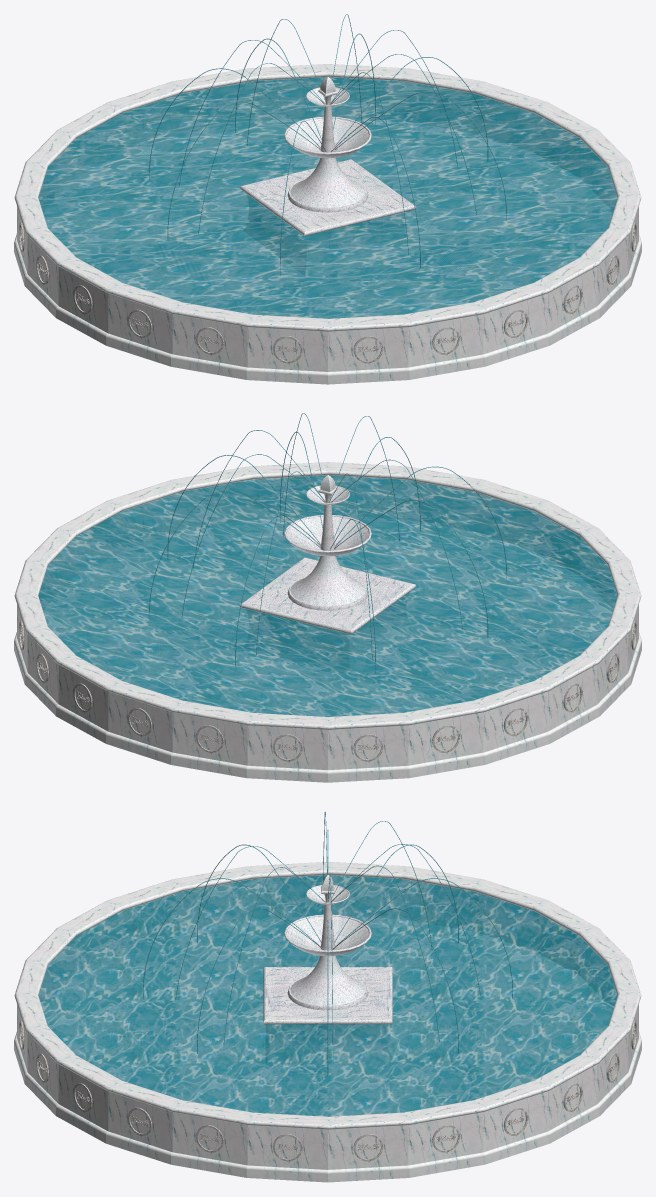
3 renders of one model, top to bottom at view 1: azimuth 30°, elevation 25°; view 2: azimuth 150°, elevation 25°; view 3: azimuth 270°, elevation 25°, orthographic.
Visible parts, largest first — view 1: SketchUp (×6), koldokola (×24); view 2: SketchUp (×6), koldokola (×24); view 3: SketchUp (×6), koldokola (×24).
Boxes of the visible parts, bbox=[...] form: SketchUp (×6): bbox=[38, 77, 617, 318]; koldokola (×24): bbox=[14, 64, 641, 384]; SketchUp (×6): bbox=[38, 475, 617, 716]; koldokola (×24): bbox=[14, 462, 641, 782]; SketchUp (×6): bbox=[38, 875, 617, 1116]; koldokola (×24): bbox=[14, 862, 641, 1182].
Bounding box in the file's own units: 398 × 398 × 143.
8 materials, 6 textured.
